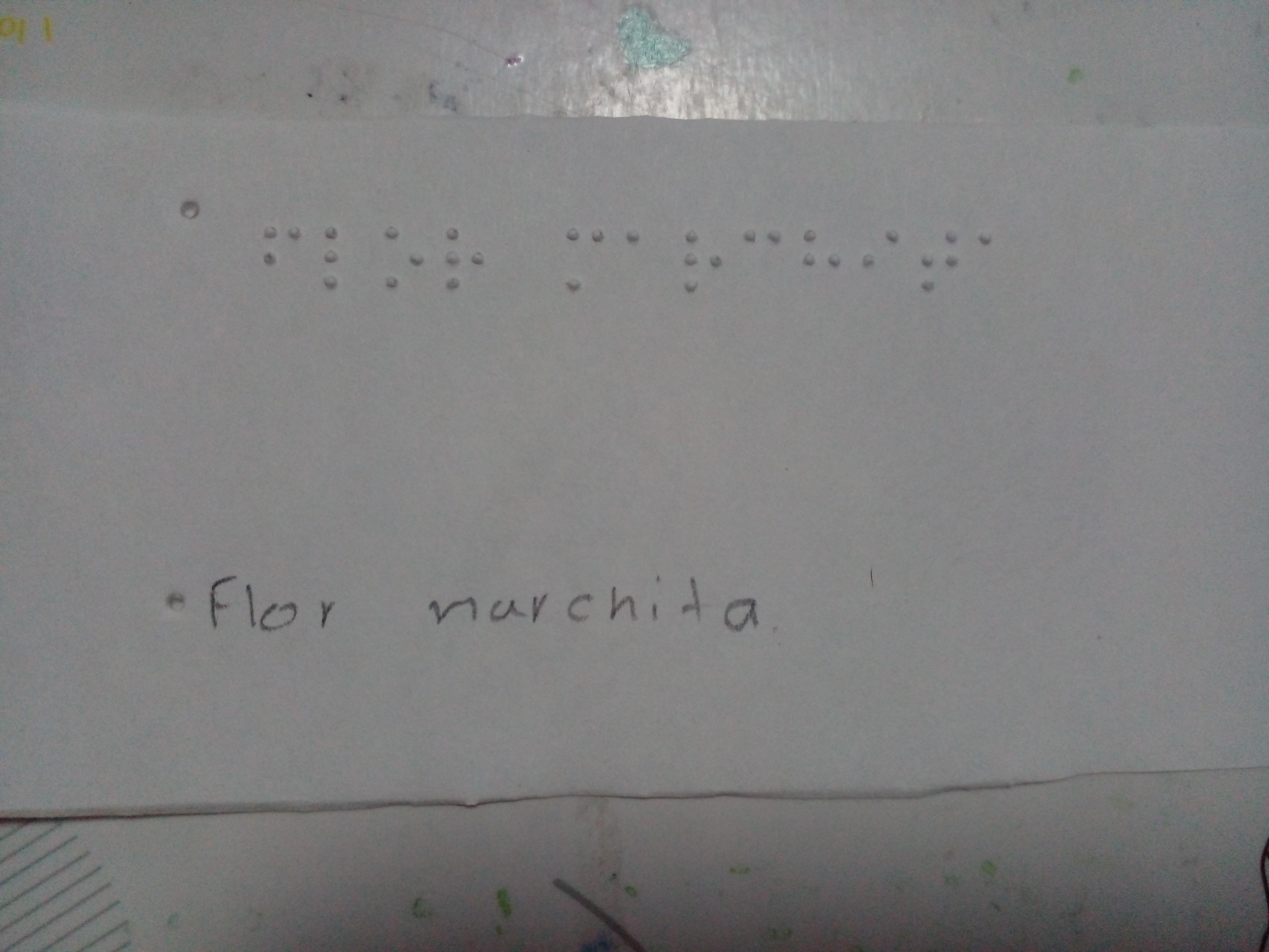a: (620, 229, 658, 270), (973, 220, 1004, 265)
c: (742, 218, 790, 276)
f: (256, 212, 308, 280)
h: (798, 223, 847, 279)
i: (850, 223, 909, 284)
l: (316, 218, 353, 299)
m: (550, 208, 612, 298)
o: (375, 222, 429, 315)
r: (435, 217, 499, 308), (678, 217, 727, 308)
t: (917, 214, 962, 301)
